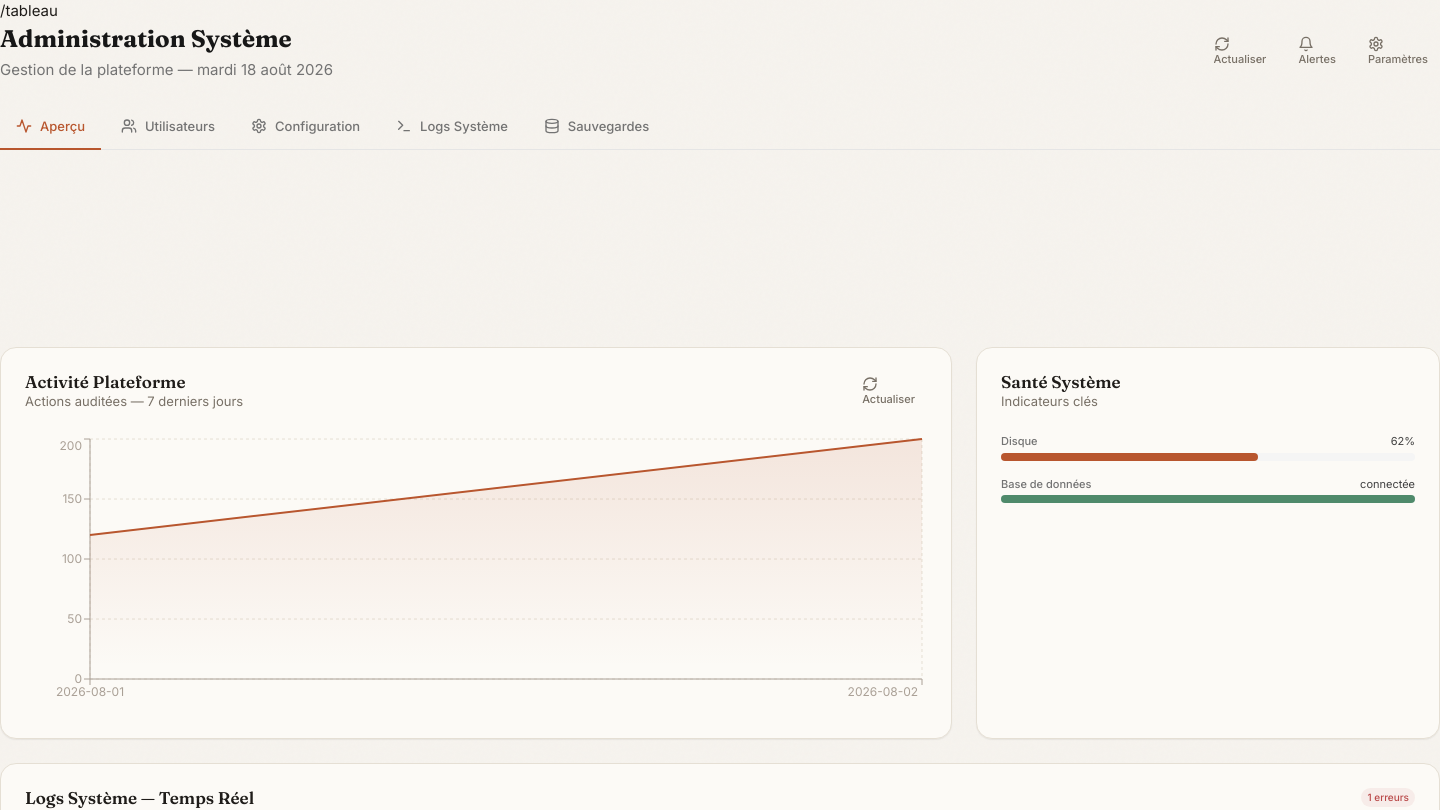
Test: AdminDashboard › affiche les logs réels dans l’onglet Logs Système et les filtre
Click the button "Logs Système". click: coordinates (452, 127)
box: [380,105,524,150]
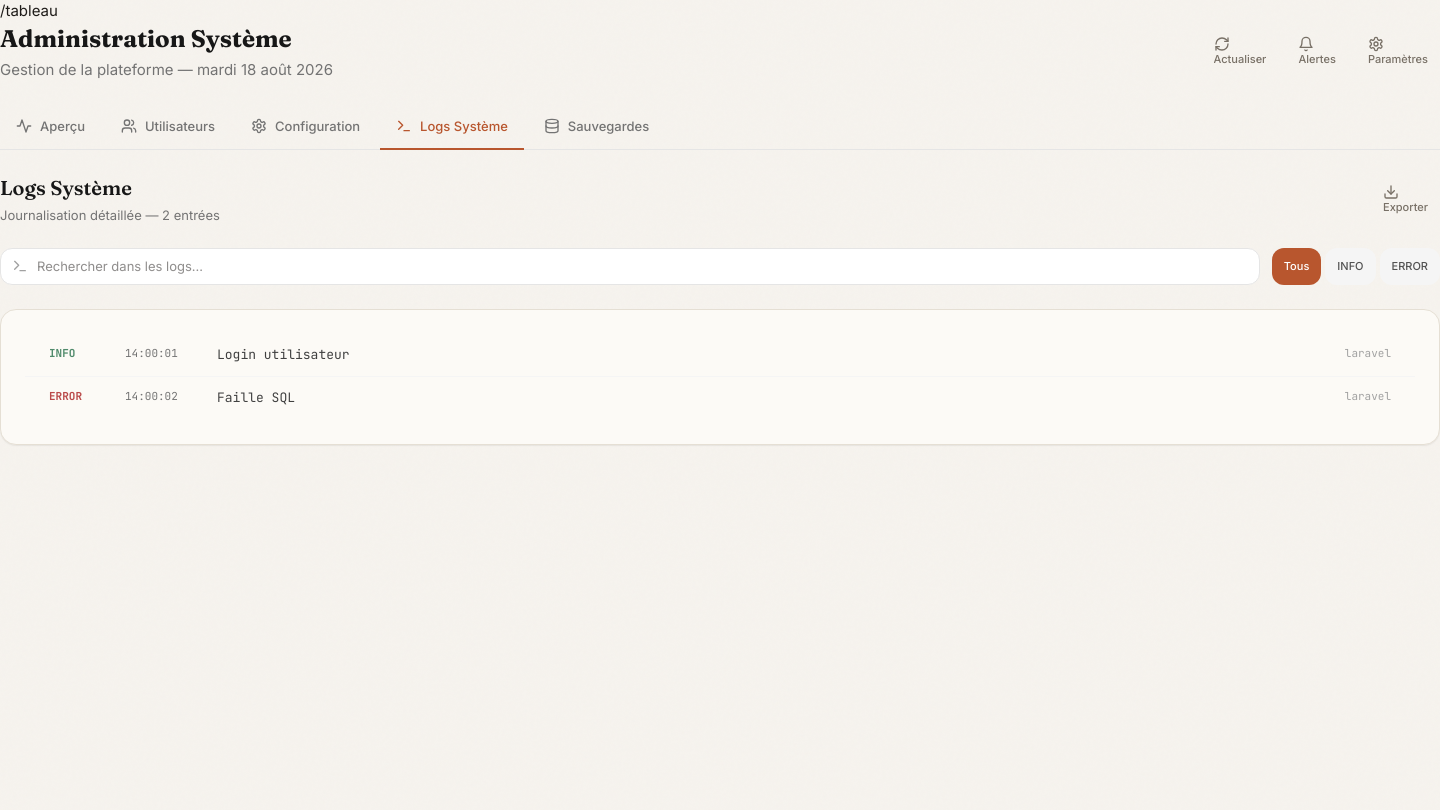
Check: the text "Login utilisateur" is shown, box [217,346,350,363]
Check: the text "Journalisation détaillée — 2 entrées" is shown, box [0,206,220,224]
Note: Filtre par niveau ERROR : seule l'entrée en erreur subsiste.
Click the button "ERROR". click: coordinates (1410, 266)
box: [1380,248,1439,285]
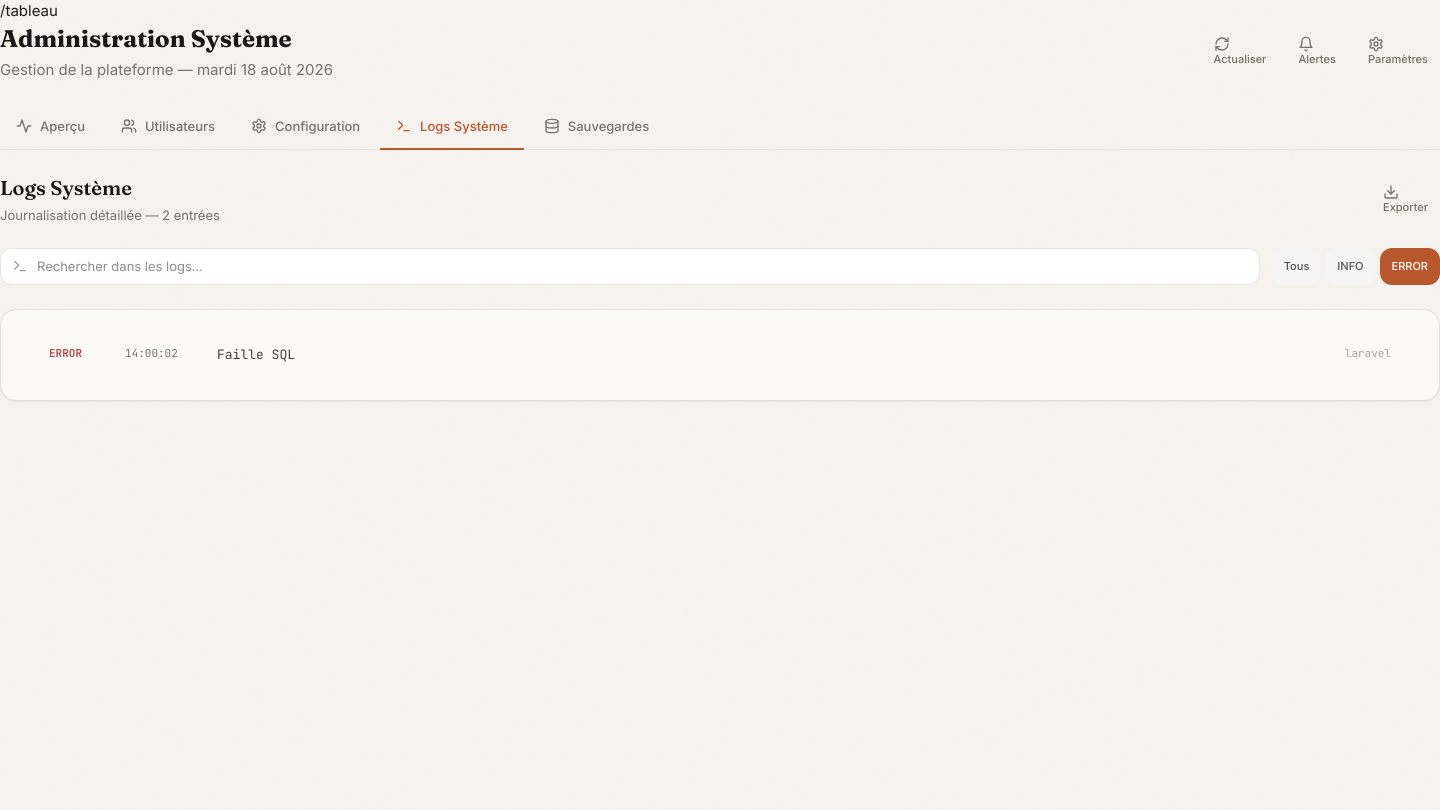
Check: the text "Faille SQL" is shown, box [217,346,295,363]
Check: the text "Login utilisateur" is gone
